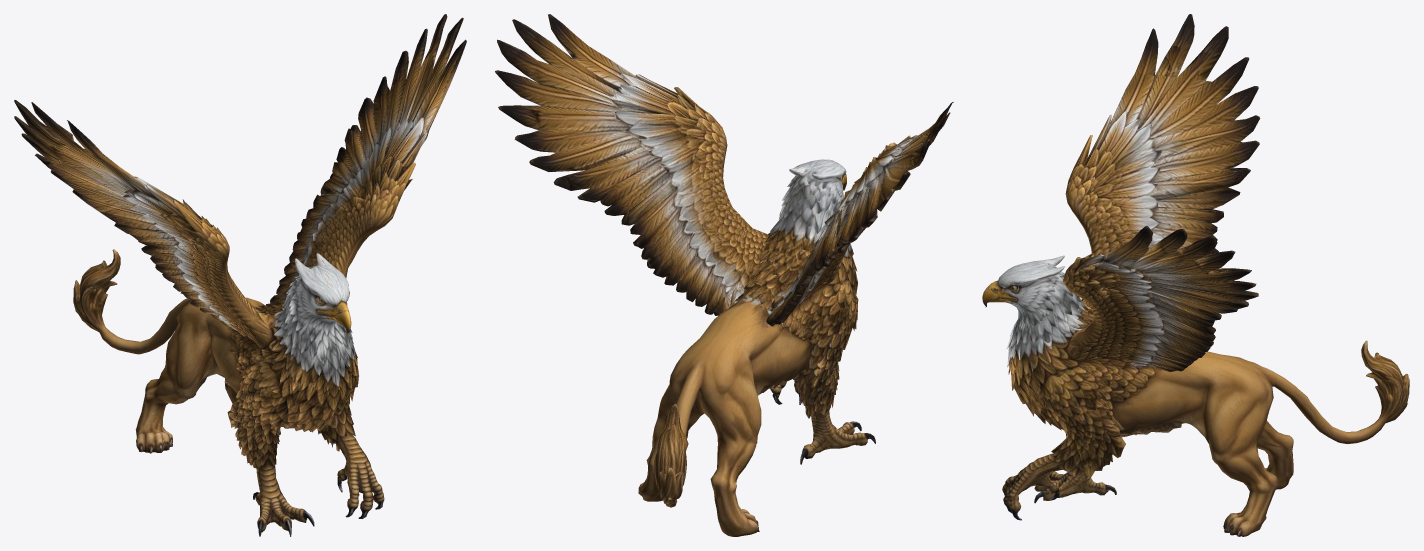
The model's file is griffin.glb.
3 views of the same model, side by side, from view 1: azimuth 30°, elevation 25°; view 2: azimuth 150°, elevation 25°; view 3: azimuth 270°, elevation 25° (orthographic). The views are drawn at different scales.
Size of the model in its own units: 0.9517 by 0.8799 by 0.8603.
1 material, 1 textured.
